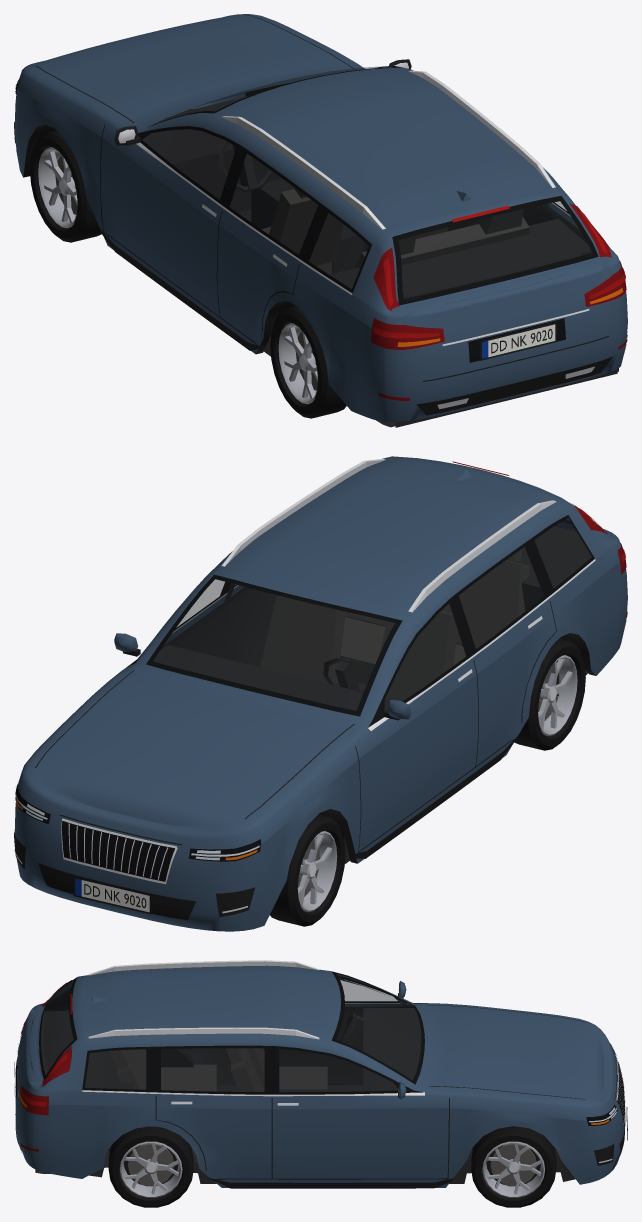
Rendered from kombi_nord.glb.
3 renders of one model, top to bottom at view 1: azimuth 30°, elevation 25°; view 2: azimuth 150°, elevation 25°; view 3: azimuth 270°, elevation 25°, orthographic. The views are drawn at different scales.
Parts seen in each view (by area): view 1: Body, Glass, Interior, Lights, Tire_RL, Tire_FL, Rim_FL, Rim_RL; view 2: Body, Glass, Interior, Tire_FL, Tire_RL, Rim_FL, Rim_RL, Lights; view 3: Body, Glass, Interior, Tire_FR, Tire_RR, Rim_RR, Rim_FR, Lights.
Boxes of the visible parts, x1=… form: Body: x1=14, y1=14, x2=627, y2=422; Glass: x1=142, y1=66, x2=593, y2=302; Interior: x1=142, y1=95, x2=618, y2=427; Lights: x1=15, y1=84, x2=627, y2=400; Tire_RL: x1=270, y1=306, x2=346, y2=418; Tire_FL: x1=30, y1=130, x2=101, y2=242; Rim_FL: x1=38, y1=147, x2=77, y2=228; Rim_RL: x1=278, y1=323, x2=317, y2=404; Body: x1=14, y1=456, x2=627, y2=931; Glass: x1=154, y1=519, x2=591, y2=711; Interior: x1=153, y1=526, x2=591, y2=711; Tire_FL: x1=270, y1=814, x2=345, y2=926; Tire_RL: x1=514, y1=638, x2=585, y2=750; Rim_FL: x1=297, y1=831, x2=337, y2=912; Rim_RL: x1=538, y1=655, x2=577, y2=736; Lights: x1=15, y1=461, x2=627, y2=860; Body: x1=14, y1=960, x2=627, y2=1188; Glass: x1=40, y1=974, x2=420, y2=1091; Interior: x1=35, y1=978, x2=421, y2=1173; Tire_FR: x1=471, y1=1126, x2=556, y2=1207; Tire_RR: x1=108, y1=1126, x2=193, y2=1207; Rim_RR: x1=119, y1=1141, x2=182, y2=1197; Rim_FR: x1=482, y1=1141, x2=545, y2=1197; Lights: x1=19, y1=980, x2=616, y2=1151.
Size of the model in its own units: 2.1 by 1.48 by 4.98.
